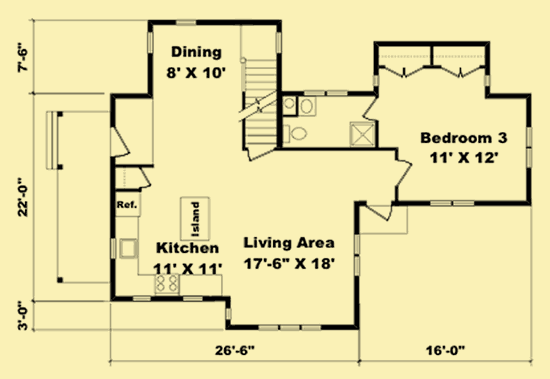door: (110, 125, 132, 157), (365, 201, 393, 221), (395, 159, 415, 187), (139, 165, 153, 189)
large_sink: (280, 122, 307, 145)
stairs: (237, 25, 277, 147)
windows: (256, 322, 321, 331), (426, 199, 478, 208), (353, 232, 362, 277), (525, 123, 534, 167), (301, 88, 348, 95), (147, 27, 155, 57), (180, 295, 205, 303), (132, 294, 151, 302)
